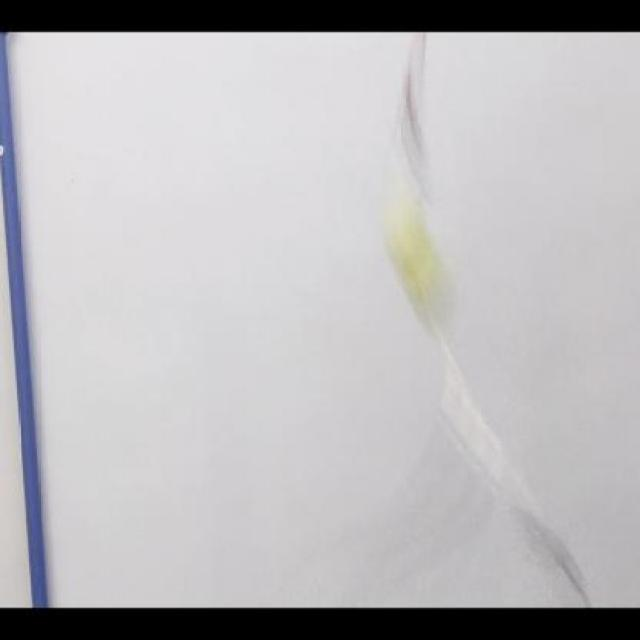baseball: (378, 176, 458, 338)
